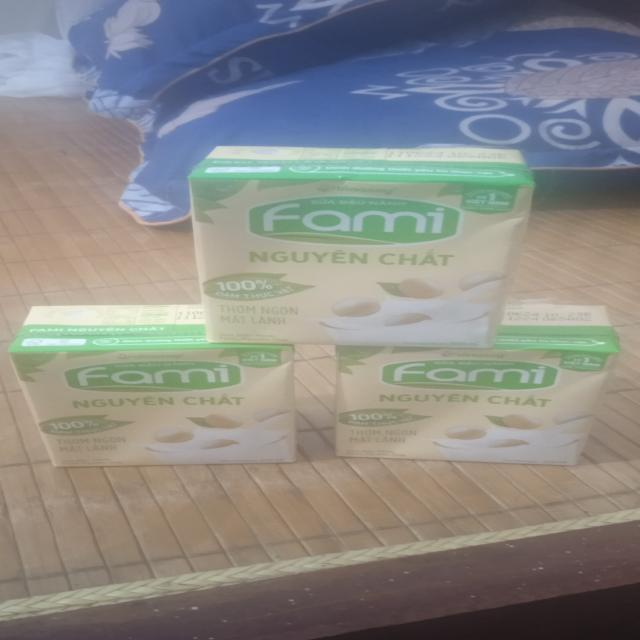Fami: (188, 147, 536, 346), (8, 306, 298, 469), (334, 305, 616, 466)
